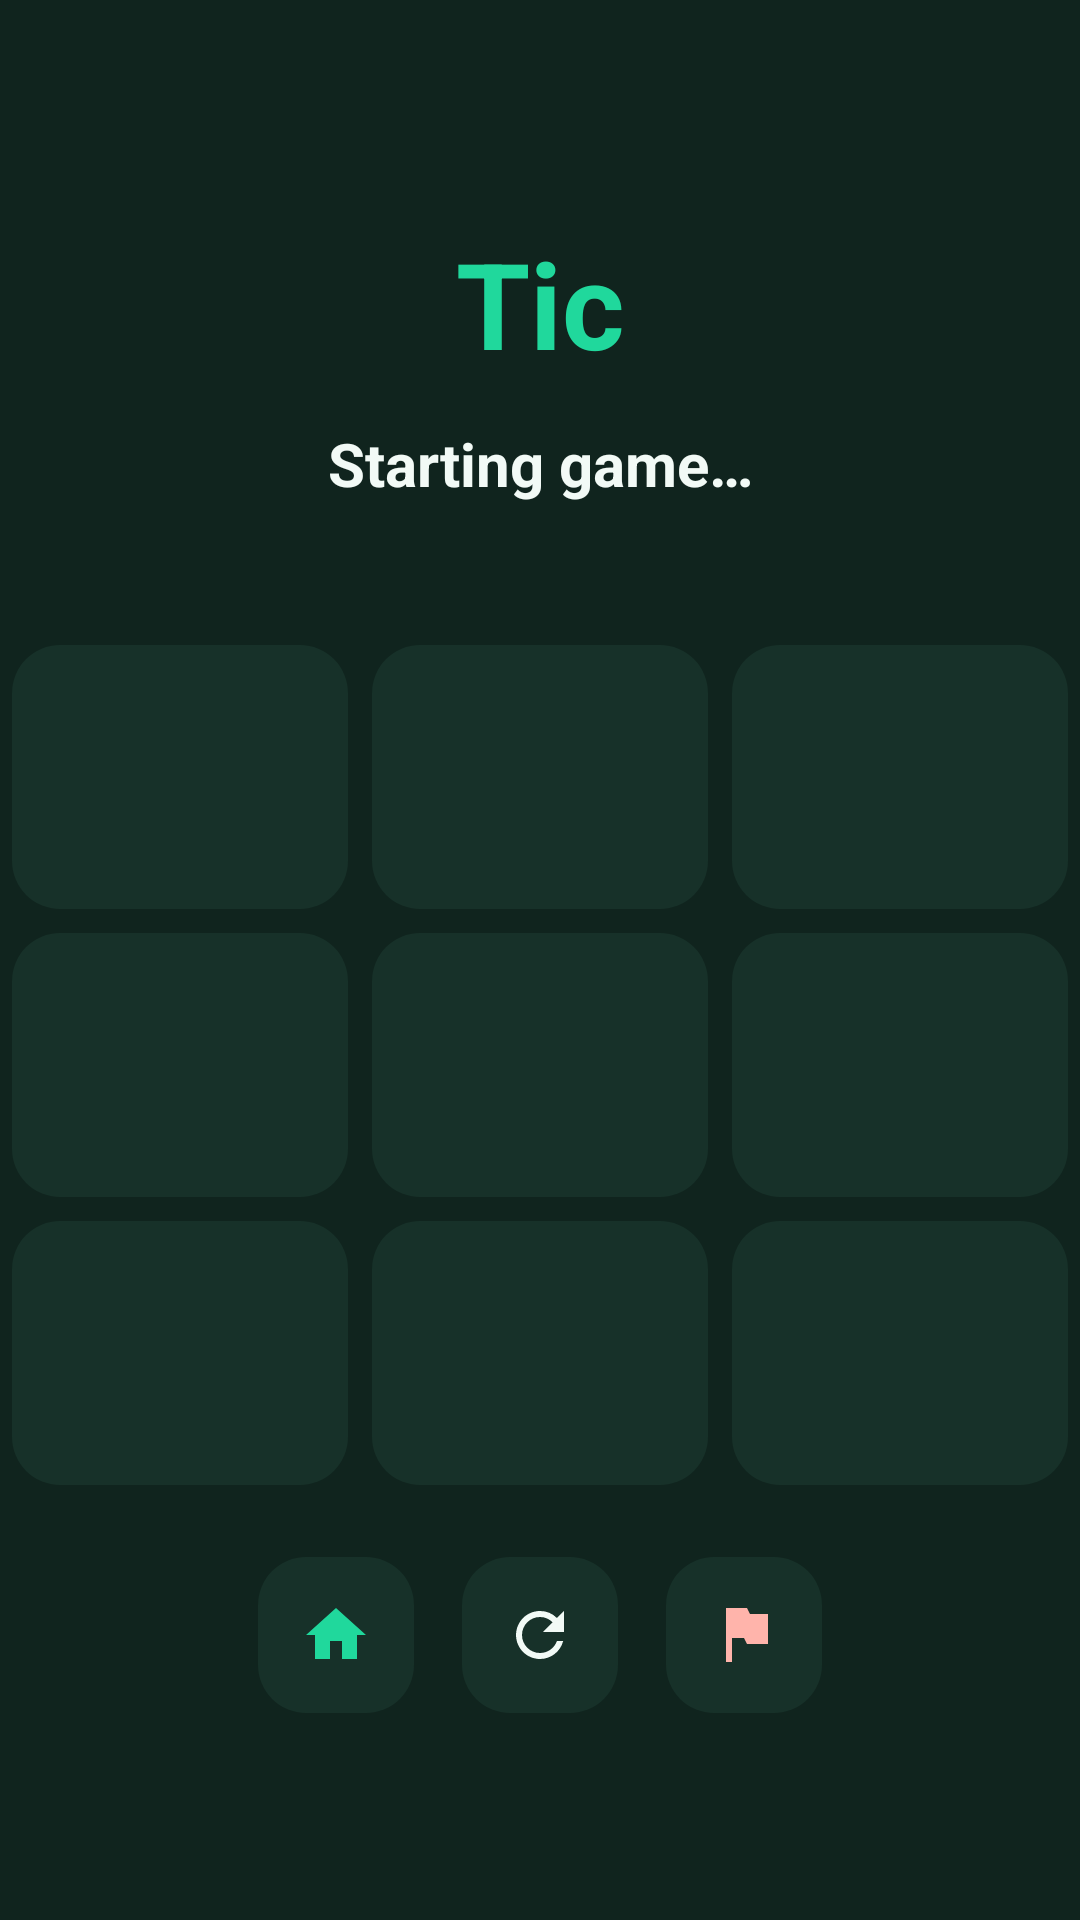

Screen size 1080px x 1920px. Icon name, then its center in pixels as point (x, y):
Home: point (336, 1633)
Restart: point (540, 1635)
Surrender: point (747, 1635)
